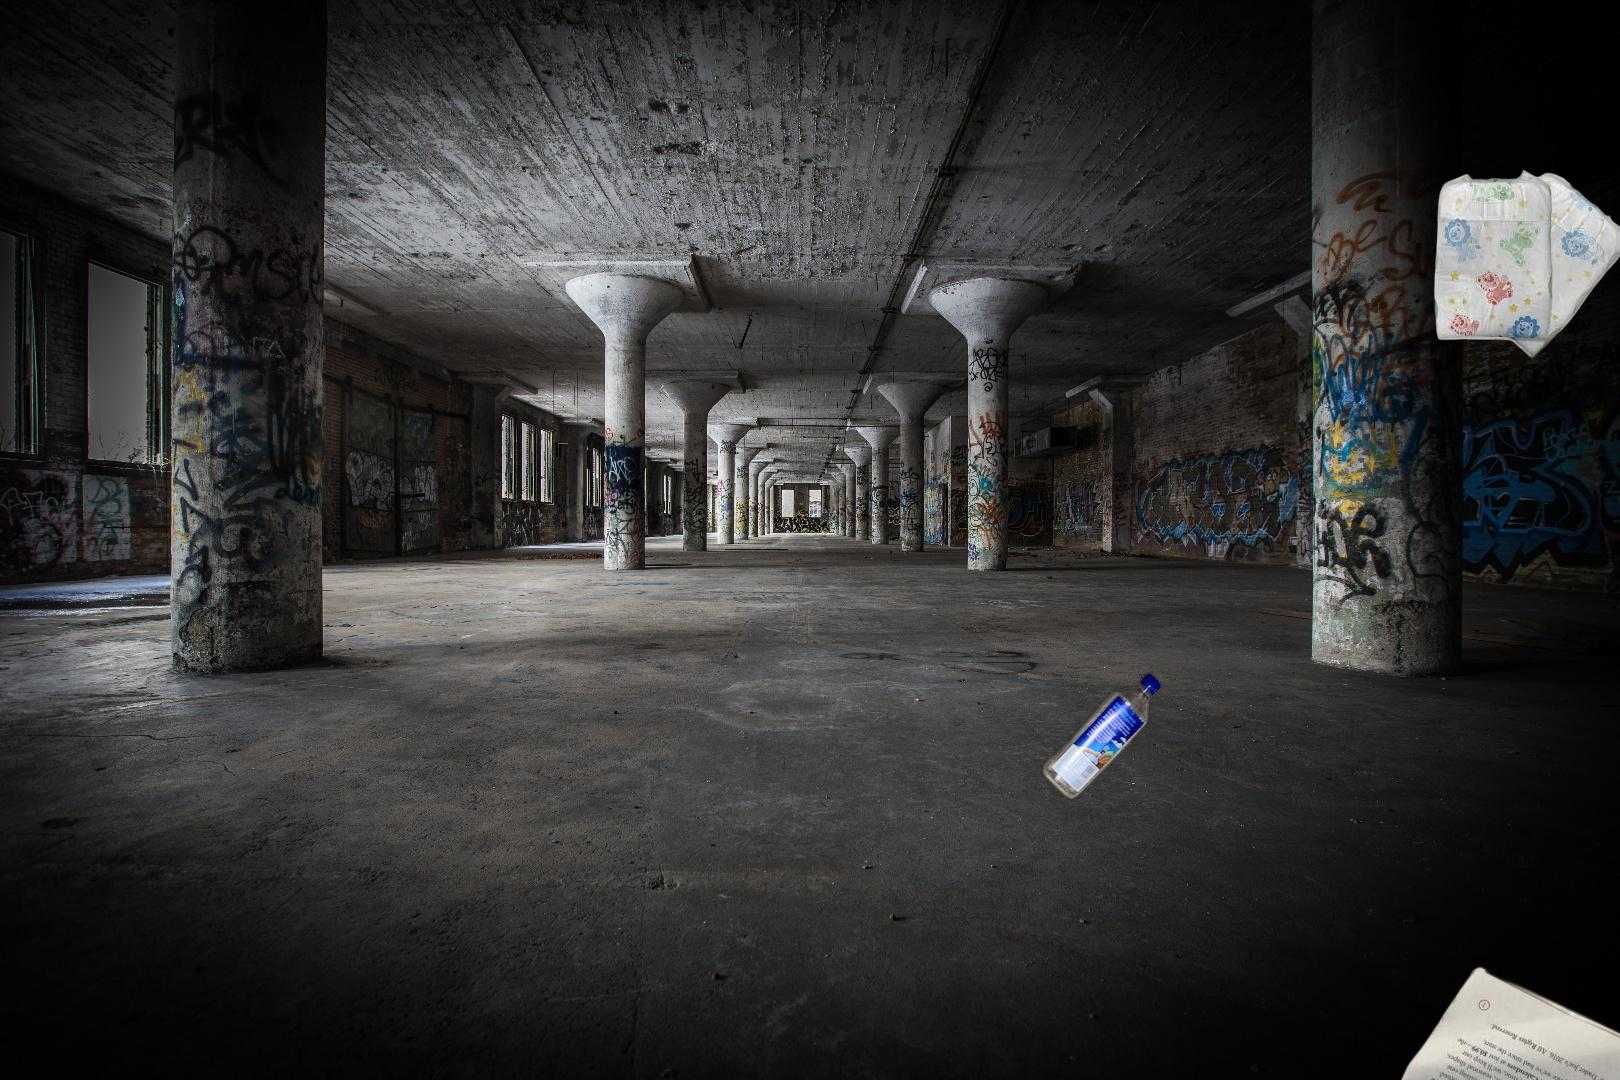paper: (1352, 964, 1620, 1080)
plastic-bottles: (1037, 667, 1166, 806)
trash: (1431, 166, 1620, 360)
